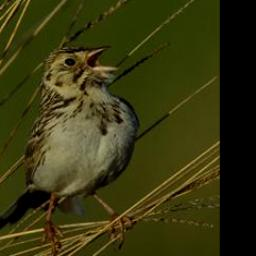Sparrow: (0, 40, 143, 254)
